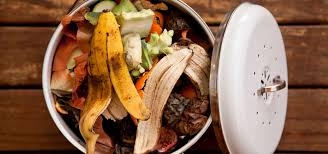kitchen_waste: (77, 4, 153, 154), (129, 44, 199, 154), (41, 7, 98, 101)
metal: (209, 2, 293, 154)
